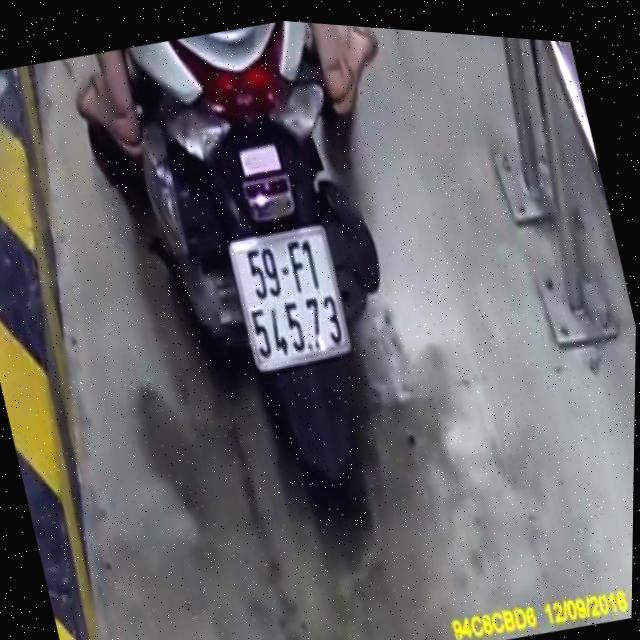motorcycle: (85, 7, 453, 562)
plate: (222, 215, 359, 379)
